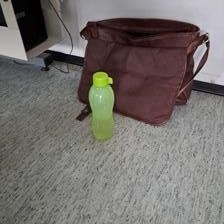bottle: (86, 68, 118, 143)
